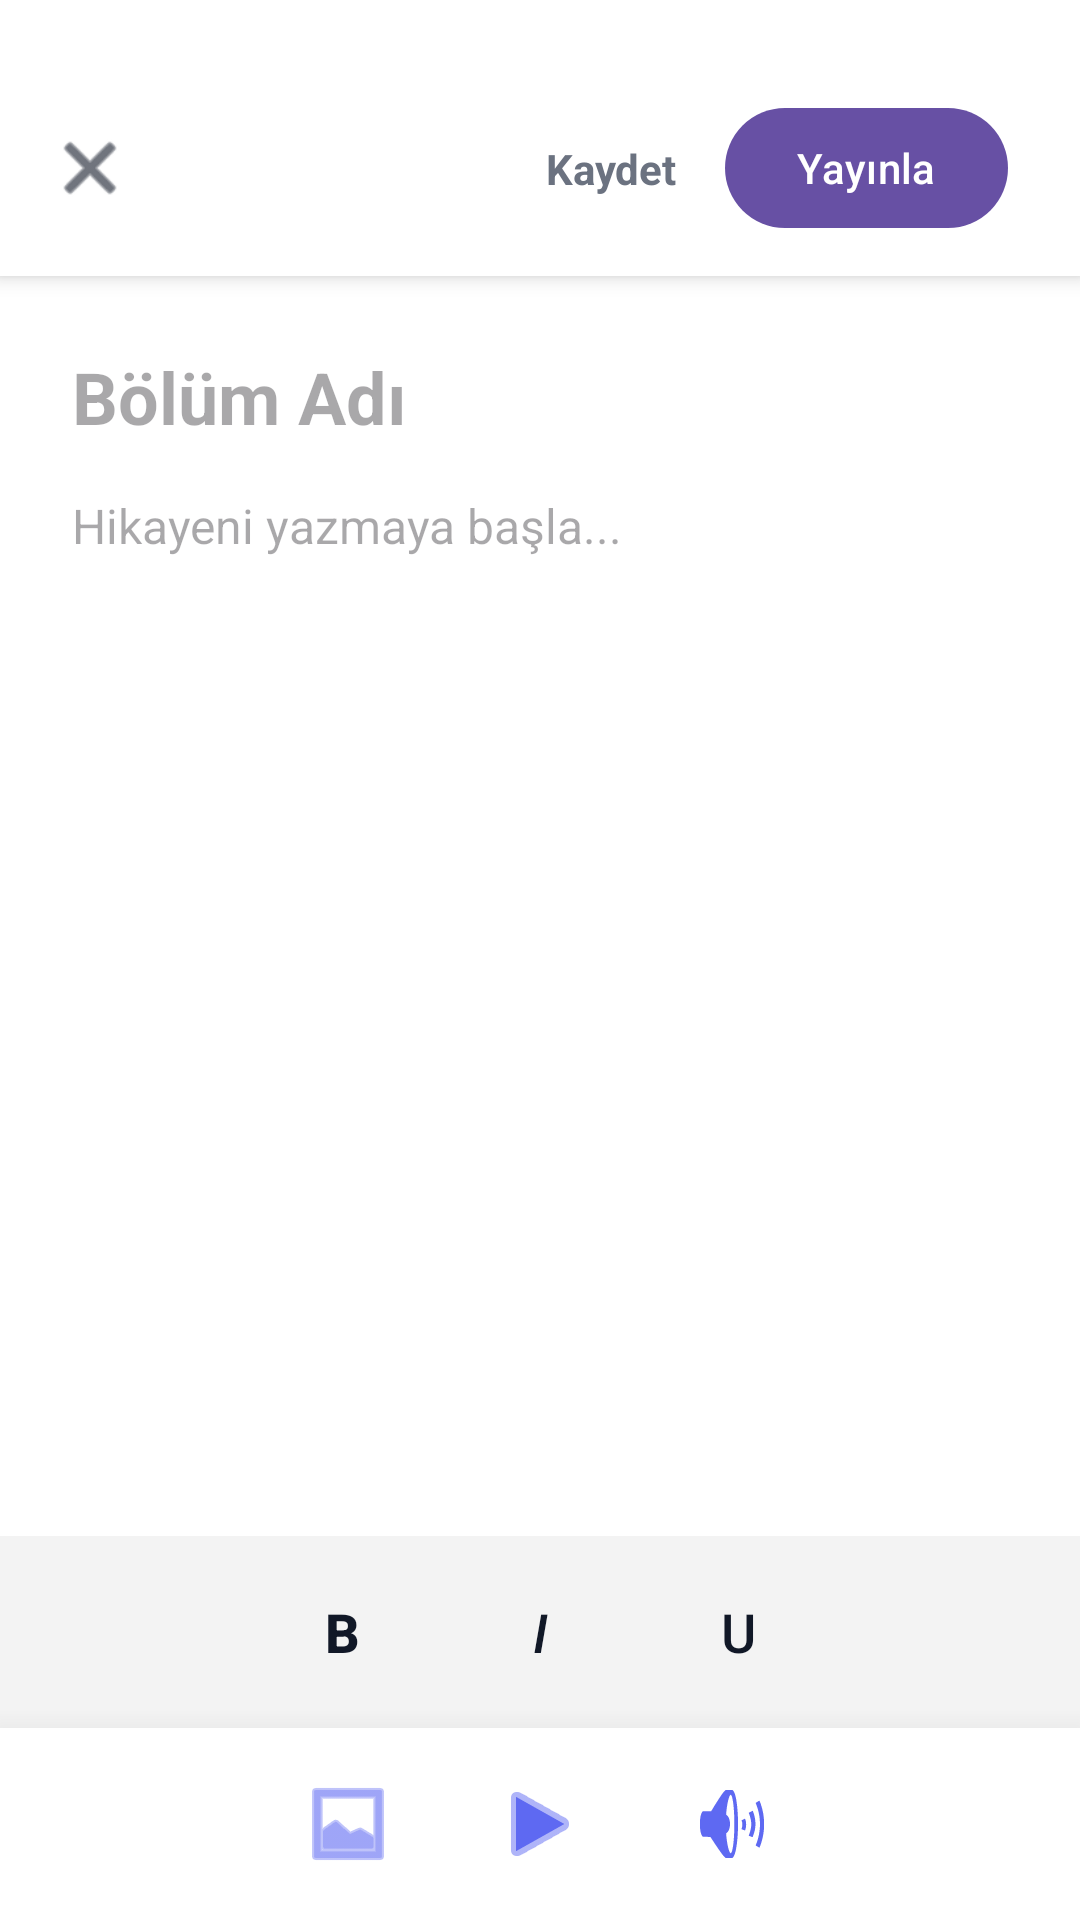

Icons on this 1080px x 1920px Android screen, each with the point to tap as (x,y):
close clear cancel: (90,168)
gallery: (348,1824)
play: (540,1824)
